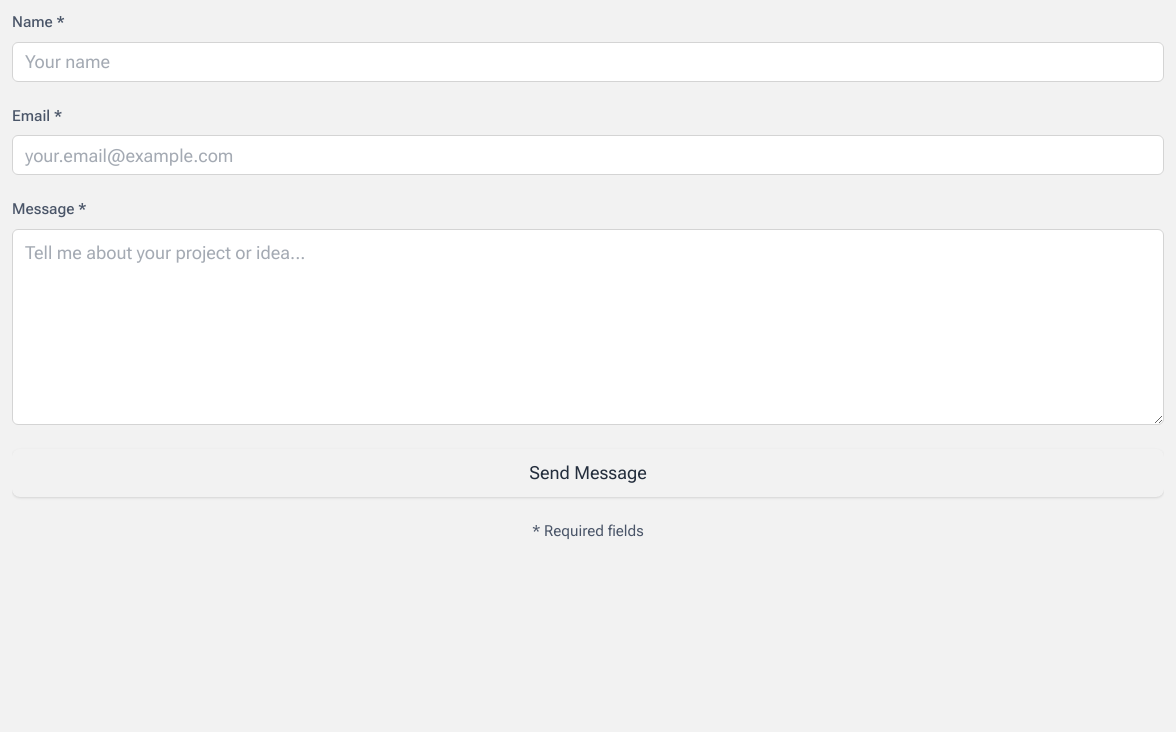
Scenario: ContactForm › validates name minimum length
The image size is (1176, 732).
Type "A" into the field with placeholder "Your name" at (588, 62), box [12,42,1164,82]
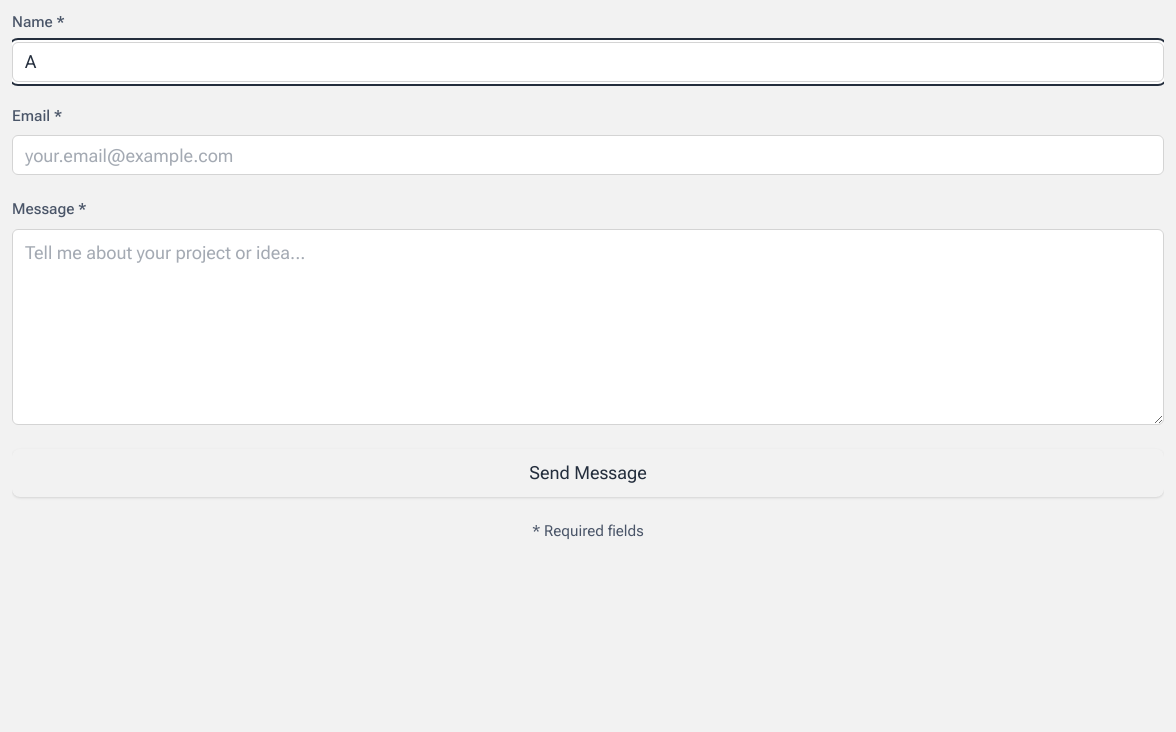
Click the button "Send Message" at (588, 473), box [12,449,1164,497]
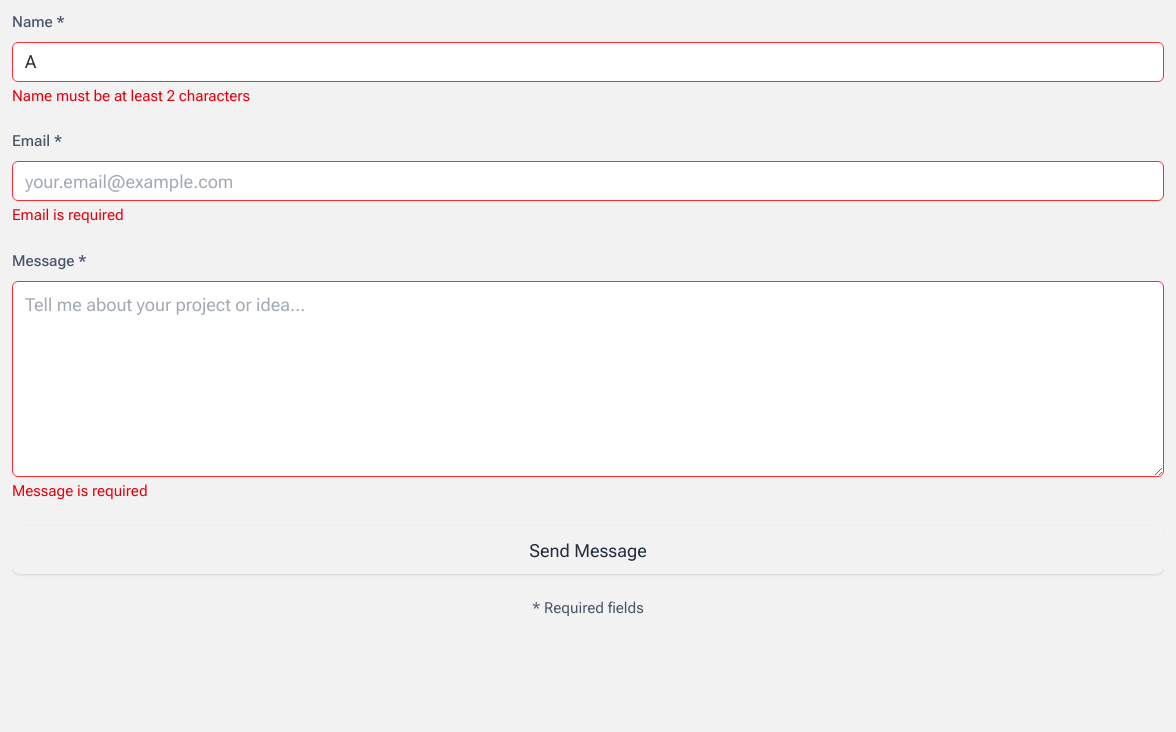
Check: the text "Name must be at least 2 characters" is shown, box [12,87,250,105]
